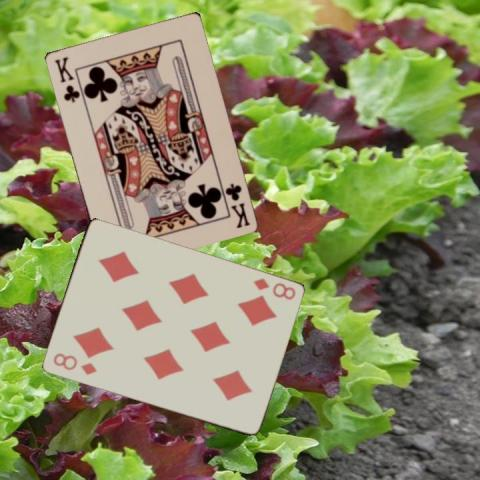8d: (50, 350, 98, 377), (250, 275, 297, 301)
Kc: (51, 53, 80, 104), (222, 180, 251, 229)
